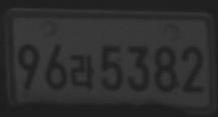2: (182, 46, 204, 94)
3: (126, 45, 149, 92)
5: (100, 44, 123, 91)
6: (44, 45, 67, 89)
8: (152, 45, 178, 91)
9: (17, 43, 40, 89)
라: (69, 53, 96, 89)
